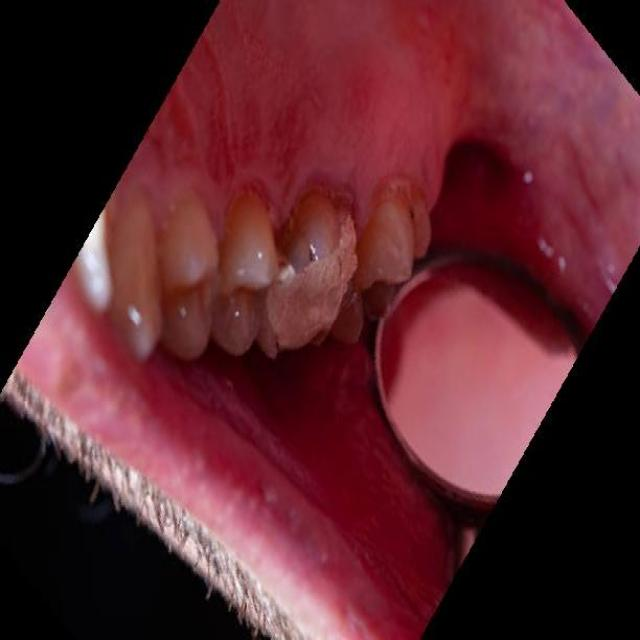caries: (275, 190, 354, 343)
